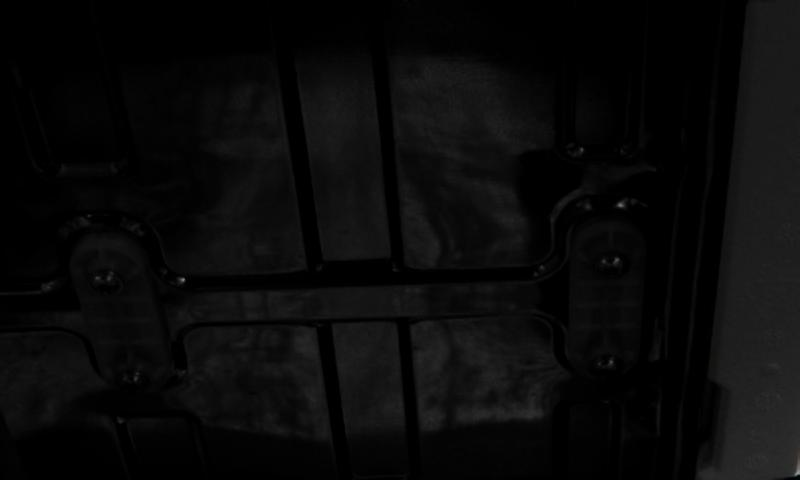vida-ok: (89, 258, 135, 303), (594, 241, 641, 284), (584, 348, 630, 387), (117, 361, 162, 400)
